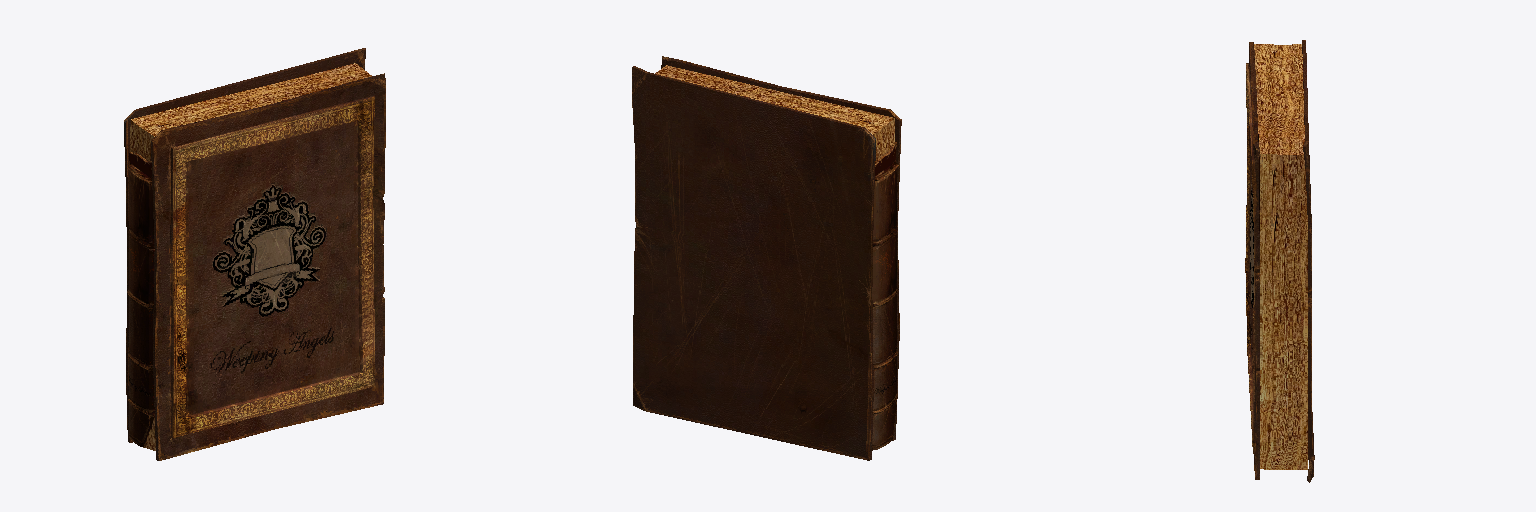
The picture shows the model from 3 angles: view 1: azimuth 30°, elevation 25°; view 2: azimuth 150°, elevation 25°; view 3: azimuth 270°, elevation 25°; orthographic projection.
Visible parts, largest first — view 1: Book; view 2: Book; view 3: Book.
Boxes of the visible parts, box(x1,y1,x2,y2) form: Book: box(124, 48, 385, 460); Book: box(632, 56, 901, 460); Book: box(1245, 40, 1314, 482).
Bounding box in the file's own units: 1.36 × 1.79 × 0.3323.
Materials: 1 (1 with a texture image).